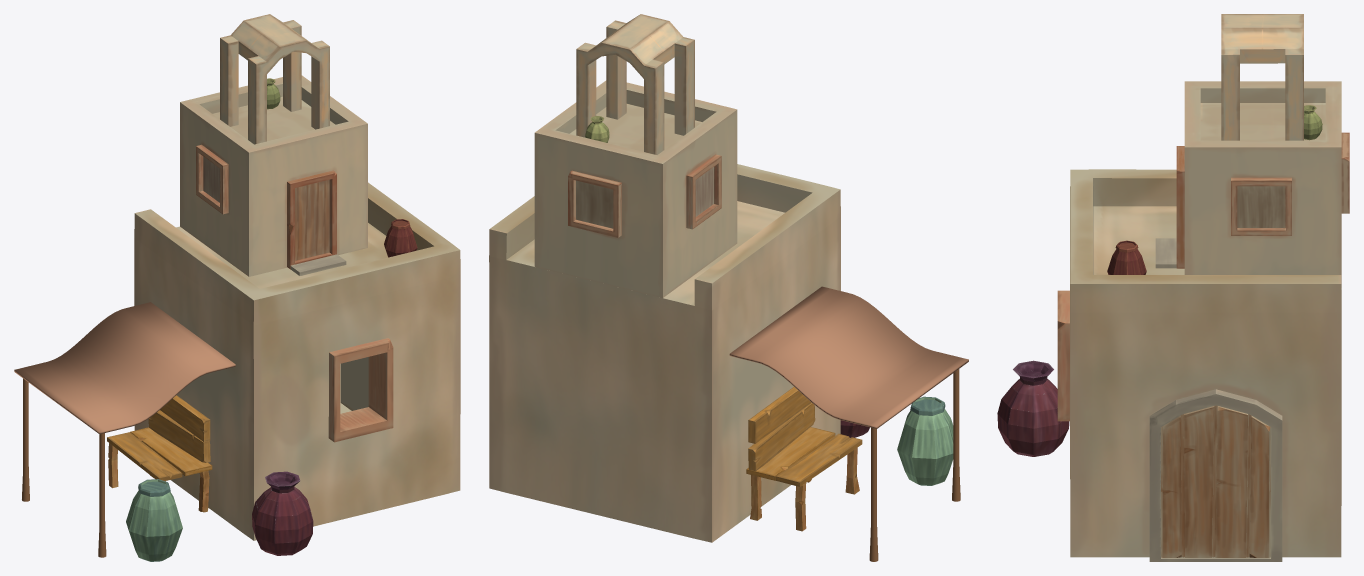
3 renders of one model, left to right at view 1: azimuth 30°, elevation 25°; view 2: azimuth 150°, elevation 25°; view 3: azimuth 270°, elevation 25°, orthographic. The views are drawn at different scales.
Visible parts, largest first — view 1: ev, tente, bank, fıcı_4, fıcı_1, cubuklar, fıcı_2; view 2: ev, tente, bank, fıcı_1, cubuklar; view 3: ev, fıcı_4, fıcı_2, fıcı_3.
Part boxes in pixels (x1,y1,x2,y2): ev: (134, 14, 460, 540); tente: (14, 302, 235, 434); bank: (107, 395, 212, 512); fıcı_4: (252, 471, 313, 555); fıcı_1: (126, 479, 182, 561); cubuklar: (22, 378, 106, 557); fıcı_2: (384, 219, 417, 257); ev: (489, 14, 840, 542); tente: (729, 286, 968, 428); bank: (746, 387, 862, 531); fıcı_1: (897, 396, 953, 485); cubuklar: (869, 369, 960, 561); ev: (1057, 14, 1349, 561); fıcı_4: (997, 360, 1069, 456); fıcı_2: (1107, 240, 1146, 274); fıcı_3: (1304, 105, 1322, 140).
Bounding box in the file's own units: 1192 × 1369 × 909.
8 materials, 6 textured.
